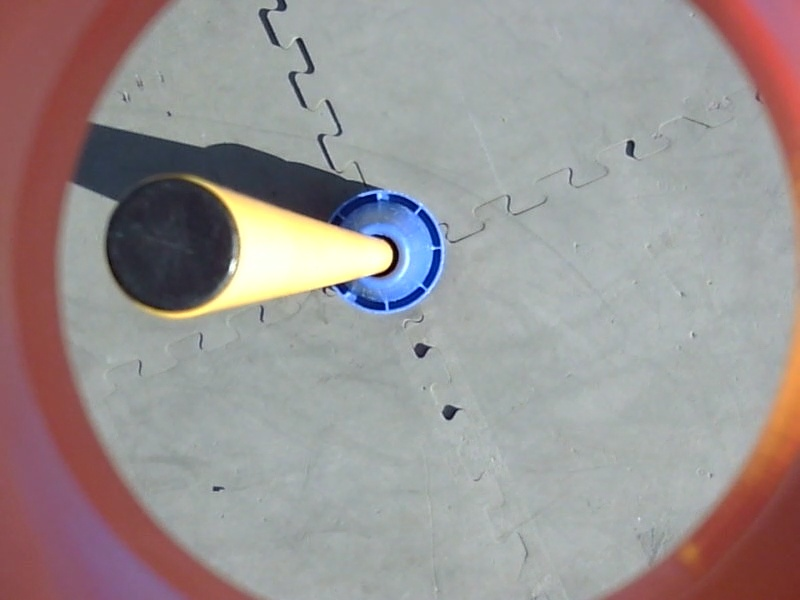tip: (97, 166, 251, 328)
